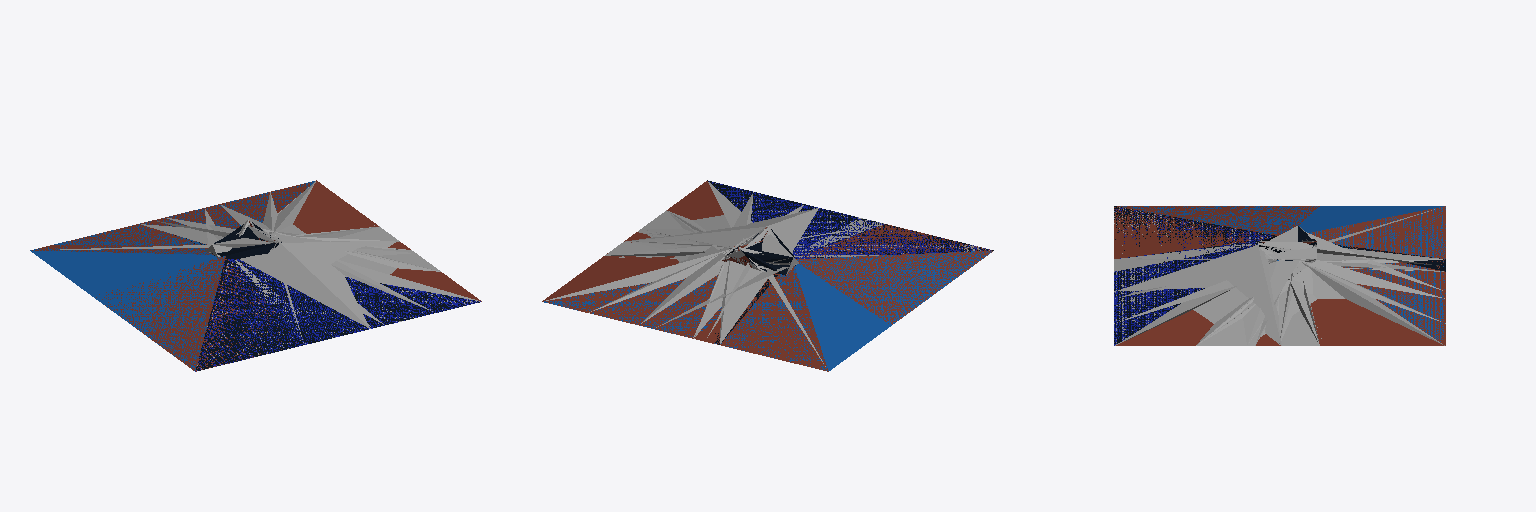
Rendered from house_10.obj.
3 renders of one model, left to right at view 1: azimuth 30°, elevation 25°; view 2: azimuth 150°, elevation 25°; view 3: azimuth 270°, elevation 25°, orthographic.
Parts seen in each view (by area): view 1: window_011, cover_sides_001, wood_balls, walls_002, door_wing_013, wall_exterior, walls, door_wing_009, door_wing_012, cover_roof_001, roof; view 2: wood_balls, window_011, walls_002, door_wing_013, walls, wall_exterior, door_wing_009, cover_sides_001, cover_roof_001, roof; view 3: wood_balls, walls_002, window_011, wall_exterior, walls, cover_sides_001, door_wing_013, roof, door_wing_012, door_wing_009, stairs_000, cover_roof_001.
Boxes of the visible parts, x1,y1,x2,y2 form: window_011: [30, 181, 314, 370]; cover_sides_001: [196, 257, 479, 370]; wood_balls: [32, 180, 481, 371]; walls_002: [141, 181, 440, 328]; door_wing_013: [96, 256, 225, 370]; wall_exterior: [60, 192, 439, 342]; walls: [157, 205, 477, 300]; door_wing_009: [195, 259, 474, 371]; door_wing_012: [203, 259, 480, 362]; cover_roof_001: [169, 222, 278, 259]; roof: [235, 226, 396, 330]; wood_balls: [542, 181, 991, 371]; window_011: [544, 227, 991, 370]; walls_002: [546, 207, 818, 343]; door_wing_013: [796, 251, 992, 324]; walls: [607, 182, 794, 337]; wall_exterior: [589, 192, 881, 366]; door_wing_009: [709, 181, 990, 258]; cover_sides_001: [707, 180, 993, 258]; cover_roof_001: [715, 229, 795, 344]; roof: [605, 218, 883, 256]; wood_balls: [1114, 206, 1445, 345]; walls_002: [1114, 241, 1444, 345]; window_011: [1120, 206, 1445, 341]; wall_exterior: [1114, 209, 1445, 345]; walls: [1115, 230, 1444, 345]; cover_sides_001: [1114, 206, 1274, 343]; door_wing_013: [1117, 206, 1319, 235]; roof: [1114, 244, 1319, 345]; door_wing_012: [1114, 208, 1268, 345]; door_wing_009: [1115, 208, 1271, 343]; stairs_000: [1114, 207, 1270, 344]; cover_roof_001: [1258, 226, 1445, 271].
Bounding box in the file's own units: 23.52 × 3.15 × 23.52.